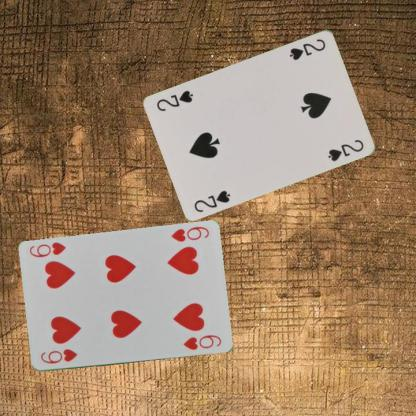2s: (191, 187, 232, 213), (287, 36, 327, 61)
6h: (168, 224, 210, 244), (38, 346, 78, 365)
